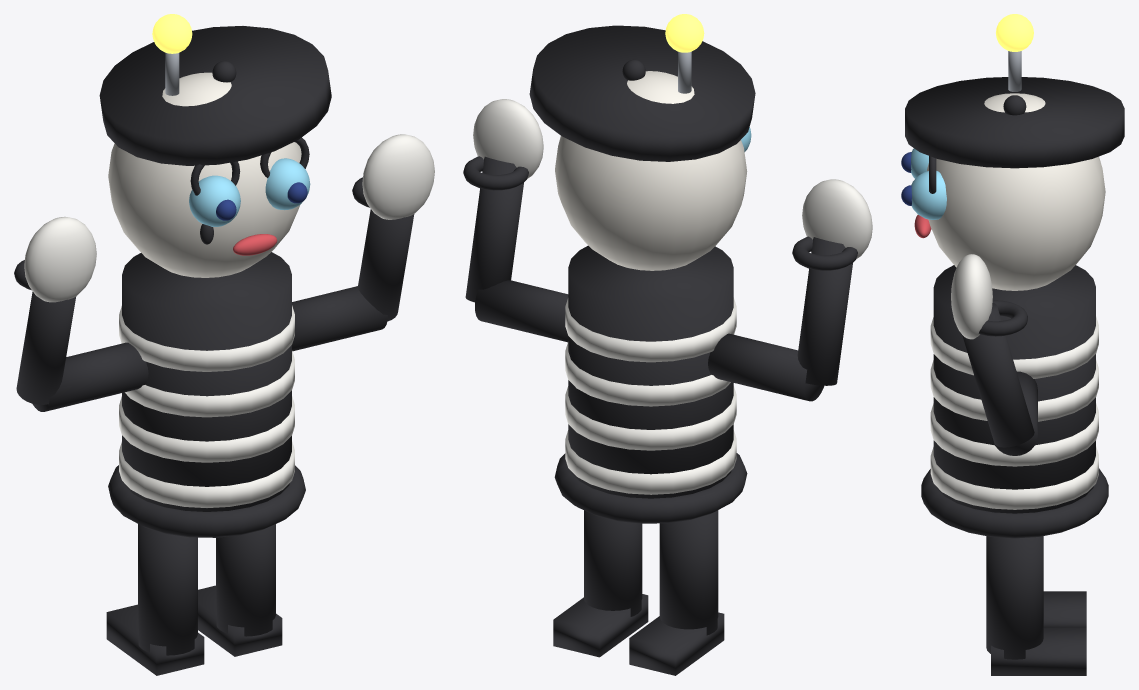
Rendered from mimi_v1.glb.
The picture shows the model from 3 angles, left to right: view 1: azimuth 30°, elevation 25°; view 2: azimuth 150°, elevation 25°; view 3: azimuth 270°, elevation 25°; orthographic projection. The views are drawn at different scales.
Visible parts, largest first — view 1: trunk, beret, head, leg_L, leg_R, hem, glove_L, glove_R, forearm_L, arm_L, forearm_R, arm_R (+11 smaller); view 2: trunk, beret, head, leg_L, leg_R, forearm_L, hem, forearm_R, arm_L, arm_R, glove_L, glove_R (+9 smaller); view 3: head, trunk, beret, leg_R, hem, forearm_R, stripe_0, foot_R, stripe_1, glove_R, stripe_3, stripe_2 (+8 smaller).
Part boxes in pixels (x1,y1,x2,y2): trunk: [122, 252, 291, 511]; beret: [99, 26, 331, 165]; head: [108, 72, 301, 277]; leg_L: [138, 524, 197, 655]; leg_R: [216, 524, 275, 636]; hem: [108, 465, 305, 537]; glove_L: [24, 216, 96, 302]; glove_R: [362, 134, 434, 219]; forearm_L: [16, 291, 76, 404]; arm_L: [32, 342, 148, 411]; forearm_R: [357, 209, 414, 321]; arm_R: [292, 286, 387, 351]; trunk: [568, 245, 733, 498]; beret: [529, 25, 755, 161]; head: [555, 71, 747, 270]; leg_L: [659, 510, 718, 635]; leg_R: [584, 510, 642, 616]; forearm_L: [797, 237, 852, 385]; hem: [554, 453, 747, 523]; forearm_R: [465, 156, 523, 302]; arm_L: [708, 333, 824, 401]; arm_R: [475, 280, 568, 342]; glove_L: [802, 179, 872, 258]; glove_R: [473, 99, 543, 178]; head: [927, 93, 1105, 290]; trunk: [933, 265, 1095, 513]; beret: [905, 77, 1124, 168]; leg_R: [986, 536, 1043, 659]; hem: [921, 468, 1108, 538]; forearm_R: [962, 303, 1034, 447]; stripe_0: [930, 446, 1098, 509]; foot_R: [991, 627, 1086, 675]; stripe_1: [930, 403, 1098, 466]; glove_R: [951, 254, 992, 339]; stripe_3: [930, 316, 1098, 378]; stripe_2: [930, 360, 1098, 421].
Size of the model in its own units: 0.47 by 0.71 by 0.234.
